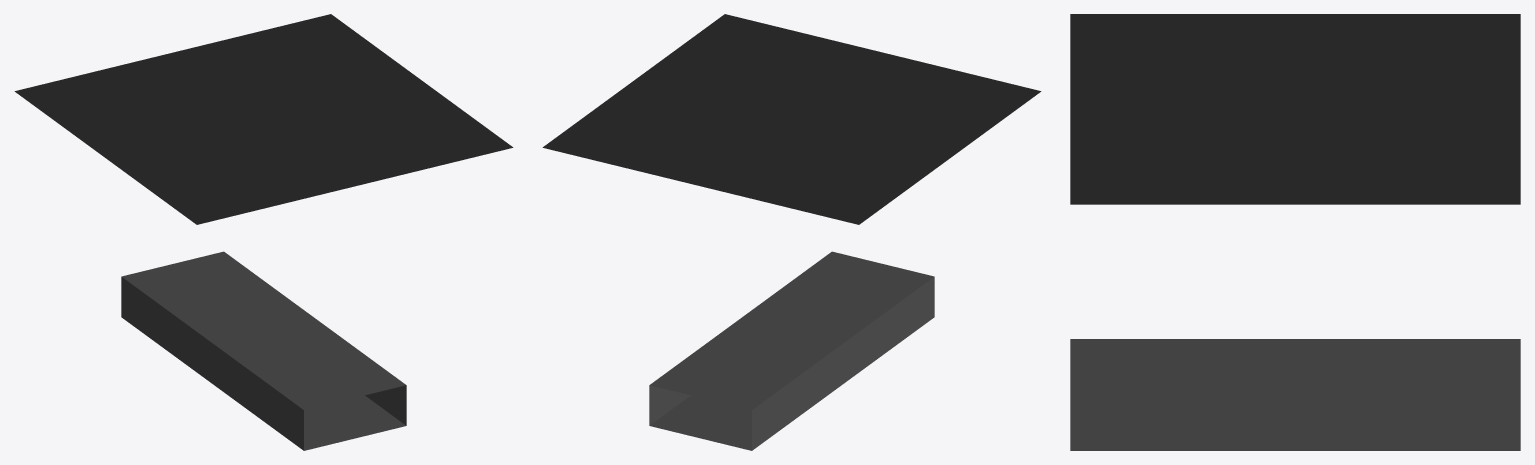
Rendered from MallCenterWalkable.fbx.
3 renders of one model, left to right at view 1: azimuth 30°, elevation 25°; view 2: azimuth 150°, elevation 25°; view 3: azimuth 270°, elevation 25°, orthographic. The views are drawn at different scales.
Parts seen in each view (by area): view 1: MallCorner1; view 2: MallCorner1; view 3: MallCorner1.
Boxes of the visible parts, x1,y1,x2,y2 form: MallCorner1: [14, 14, 513, 450]; MallCorner1: [542, 14, 1041, 450]; MallCorner1: [1070, 14, 1520, 450].
Size of the model in its own units: 200 by 152 by 200.
